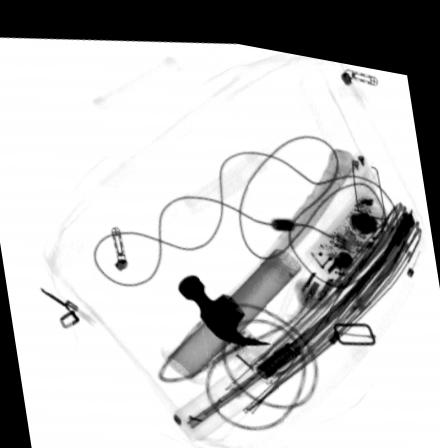Hammer: (176, 134, 358, 336)
